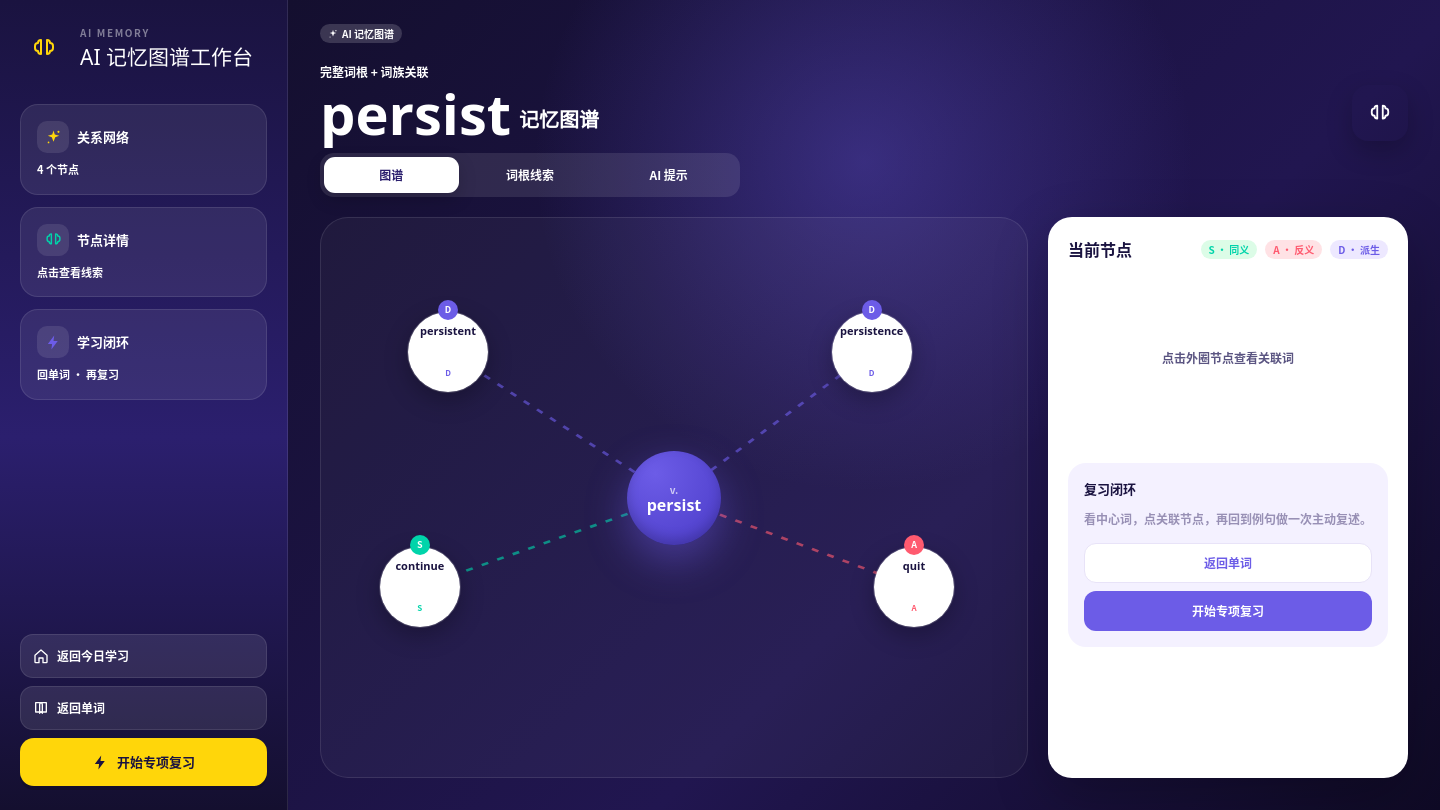
Test case: MemoryMapScreen › selects a related node and switches to root clue mode
Check: the heading named "persist 记忆图谱" is shown, box [320,85,599,141]
Click the button "persistent D D": (448,352) [408,312,488,392]
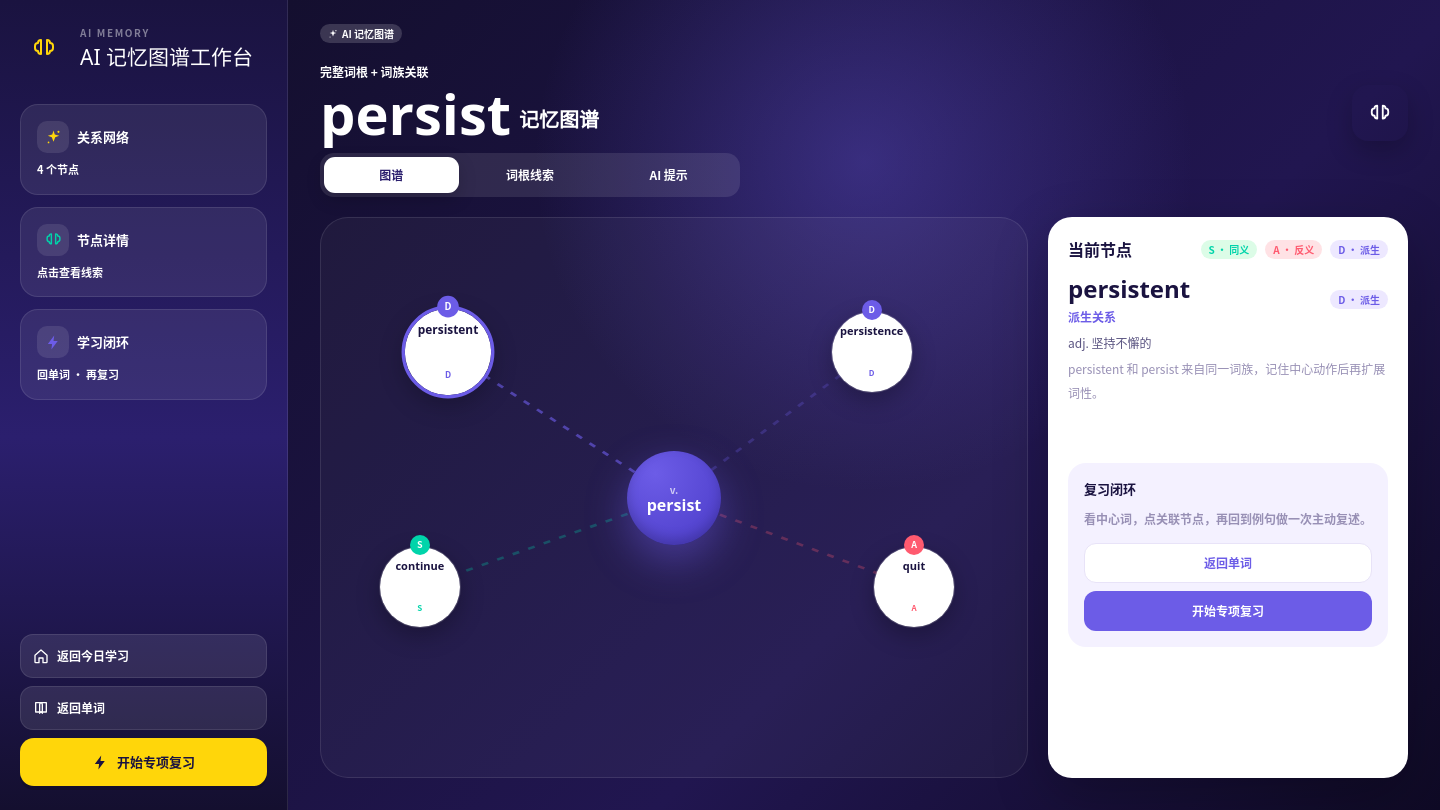
Check: the text "派生关系" is shown, box [1068,308,1116,325]
Check: the text "adj. 坚持不懈的" is shown, box [1068,334,1152,351]
Click the button "词根线索": (530,175) [463,157,597,193]
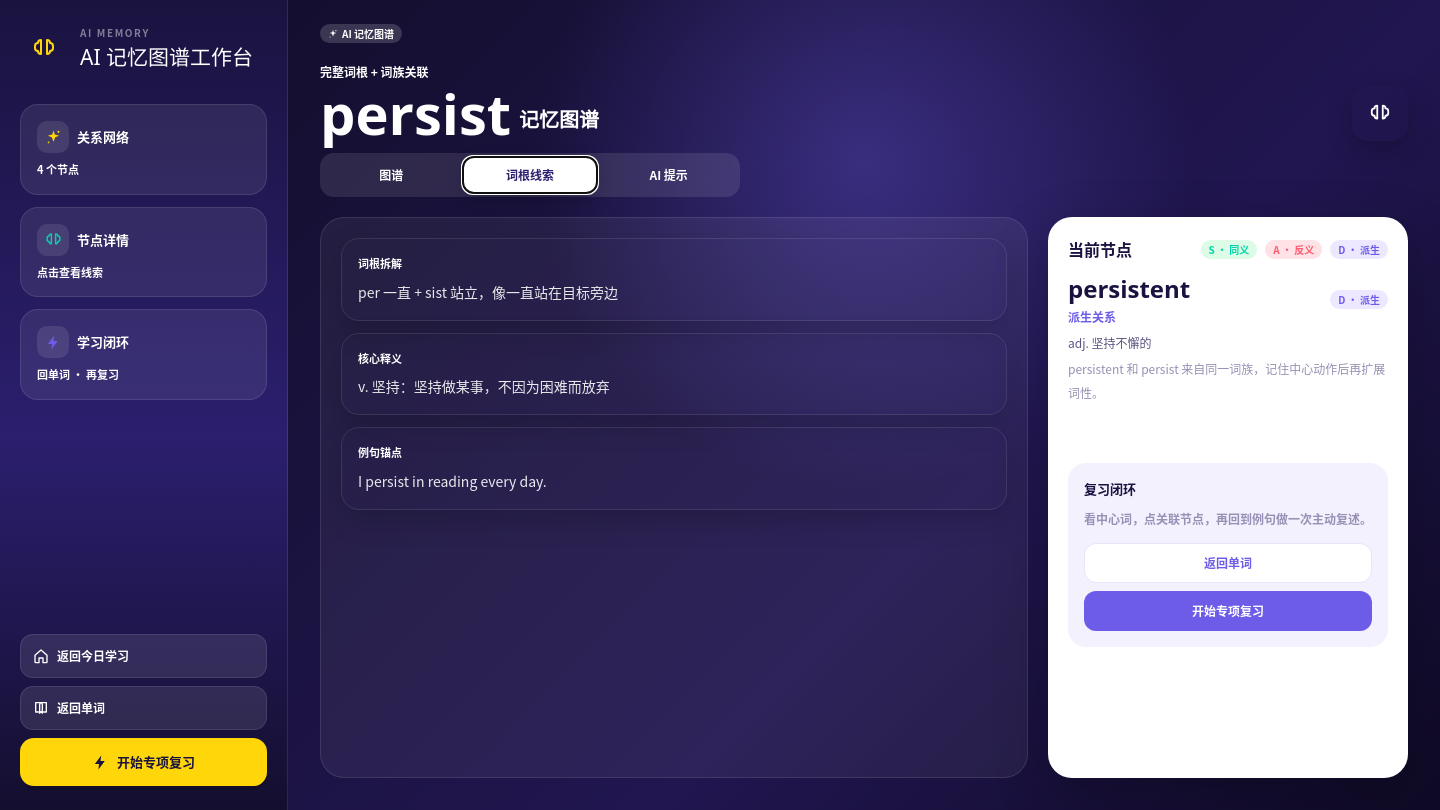
Check: the text "per 一直 + sist 站立，像一直站在目标旁边" is shown, box [358,282,618,302]
